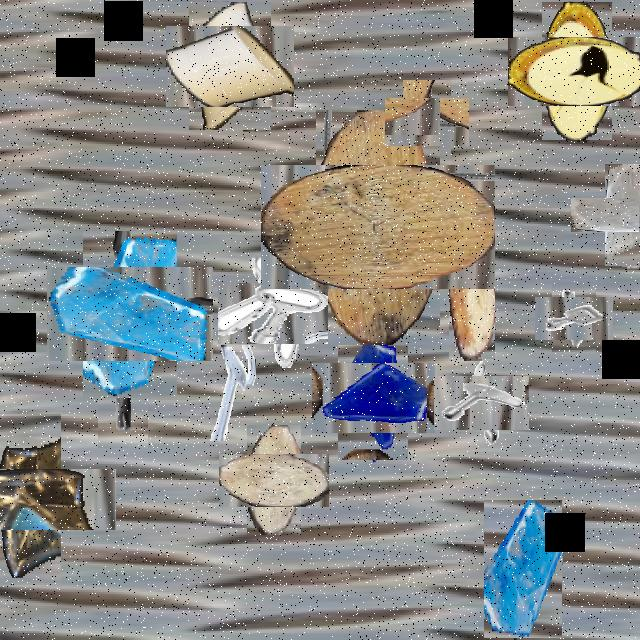glass: (65, 249, 195, 380), (484, 500, 562, 638), (324, 349, 422, 447), (588, 180, 640, 249)
metal: (230, 270, 316, 356), (391, 176, 453, 286), (444, 366, 518, 441), (204, 345, 258, 441), (98, 359, 148, 448), (394, 89, 460, 156), (544, 288, 604, 348)
plastic: (178, 13, 282, 118), (525, 19, 629, 123), (0, 441, 88, 557)
wood: (288, 138, 468, 317), (233, 439, 315, 521), (449, 242, 495, 359)
